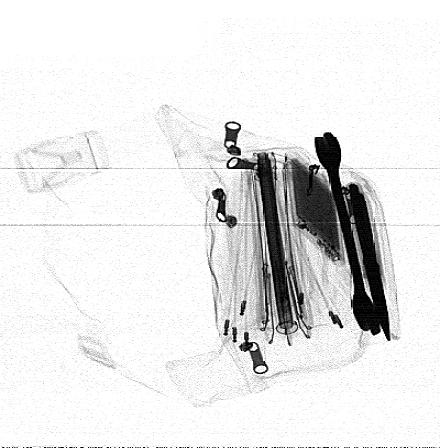Pliers: (349, 184, 391, 342)
Powerbank: (282, 155, 346, 268)
Wrench: (316, 135, 381, 335)
